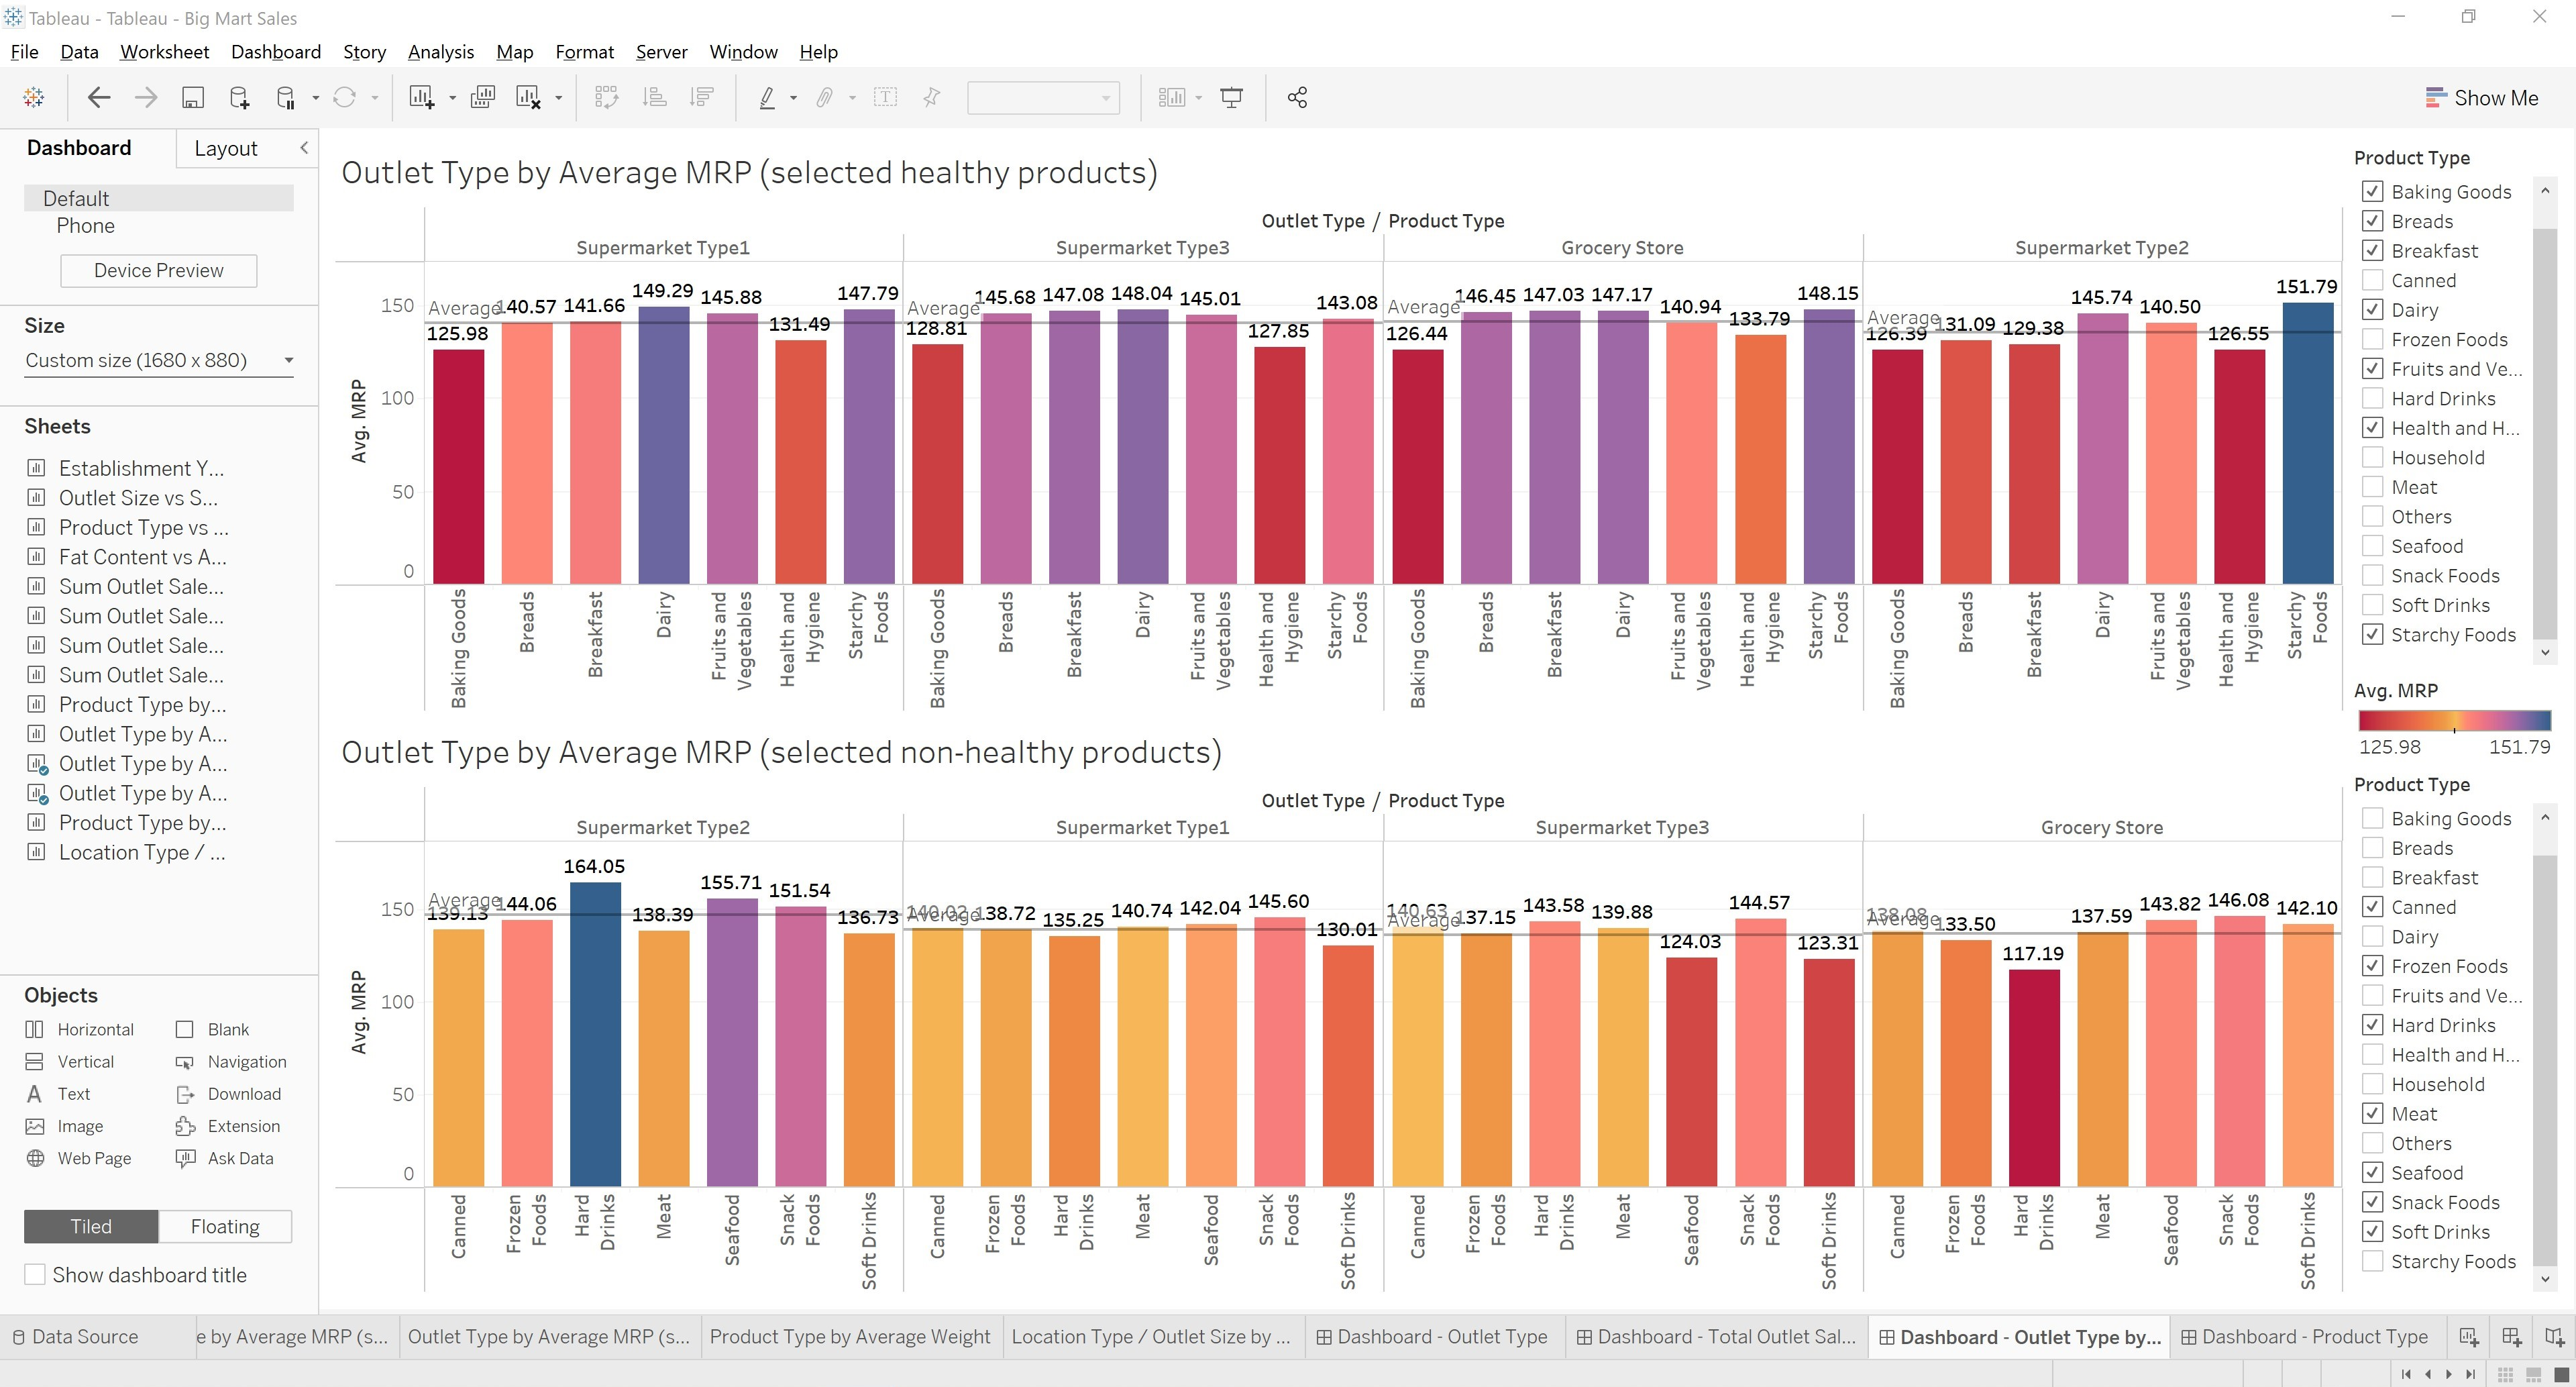

The page's visual inventory and layout, read from the dashboard file:
{"tool":"tableau","page":{"name":"Dashboard - Outlet Type by Average MRP (healthy vs non-healthy)","canvas":[1680,880],"ordinal":1},"visuals":[{"type":"worksheet","title":"Outlet Type by Average MRP (selected healthy products)","mark":"Automatic","rows":["MRP"],"cols":["OutletType","ProductType"],"box":[8,8,1504,432]},{"type":"filter","title":"Outlet Type by Average MRP (selected healthy products)","param":"[federated.04nvx7g1tpnqz512rx5cq09d1qcu].[none:ProductType:nk]","box":[1512,8,160,396.5]},{"type":"legend","title":"Outlet Type by Average MRP (selected healthy products)","param":"[federated.04nvx7g1tpnqz512rx5cq09d1qcu].[avg:MRP:qk]","box":[1512,404.5,160,71]},{"type":"worksheet","title":"Outlet Type by Average MRP (selected non-healthy products)","mark":"Automatic","rows":["MRP"],"cols":["OutletType","ProductType"],"box":[8,440,1504,432]},{"type":"filter","title":"Outlet Type by Average MRP (selected non-healthy products)","param":"[federated.04nvx7g1tpnqz512rx5cq09d1qcu].[none:ProductType:nk]","box":[1512,475.5,160,396.5]}]}

Visuals, with their boxes on the page's 1680x880 design canvas (x1, y1, x2, y2). These are canvas units, not pixel positions in the 2576x1387 screenshot, which may show the page scaled, cropped or inside an application window:
"Outlet Type by Average MRP (selected healthy products)" worksheet: bbox=(8, 8, 1512, 440)
"Outlet Type by Average MRP (selected healthy products)" filter: bbox=(1512, 8, 1672, 404)
"Outlet Type by Average MRP (selected healthy products)" legend: bbox=(1512, 404, 1672, 476)
"Outlet Type by Average MRP (selected non-healthy products)" worksheet: bbox=(8, 440, 1512, 872)
"Outlet Type by Average MRP (selected non-healthy products)" filter: bbox=(1512, 476, 1672, 872)
